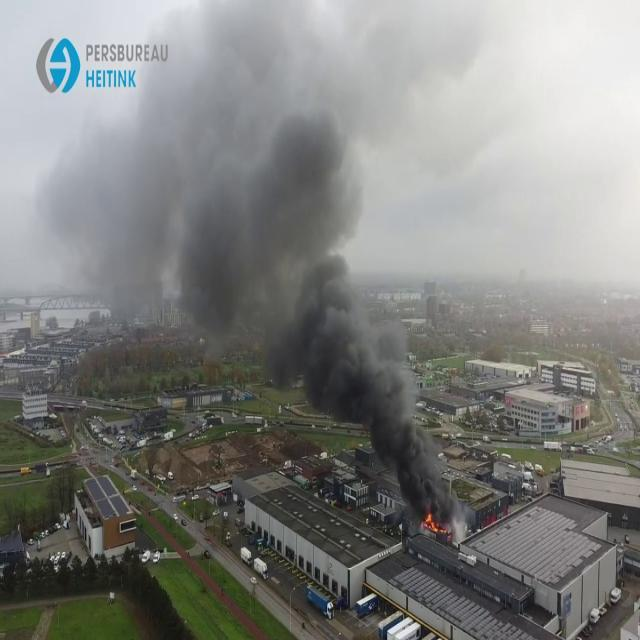Fire: (421, 506, 450, 538)
Smoke: (15, 0, 451, 523)
